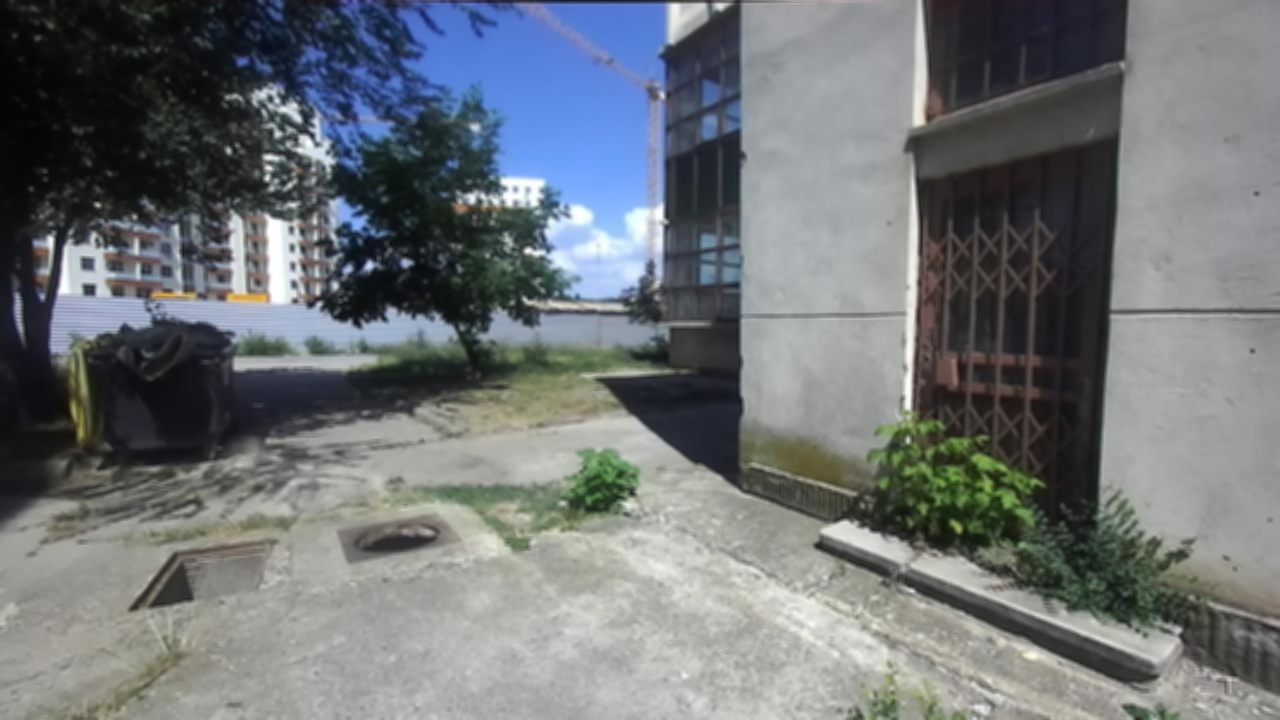drain: (120, 536, 276, 615), (345, 515, 448, 556)
